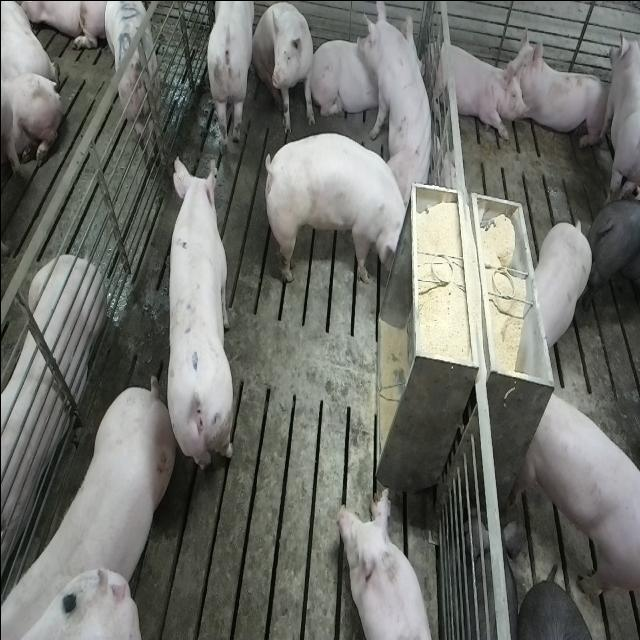Sitting: (358, 0, 437, 196), (252, 1, 316, 129)
Standing: (518, 388, 638, 605), (163, 154, 234, 480), (103, 2, 162, 156), (203, 1, 256, 154), (533, 221, 593, 355), (585, 190, 640, 316), (608, 25, 640, 203)
Sternal_lying: (0, 248, 102, 582), (334, 485, 434, 640), (424, 29, 526, 142), (510, 34, 609, 150), (310, 25, 382, 123)
